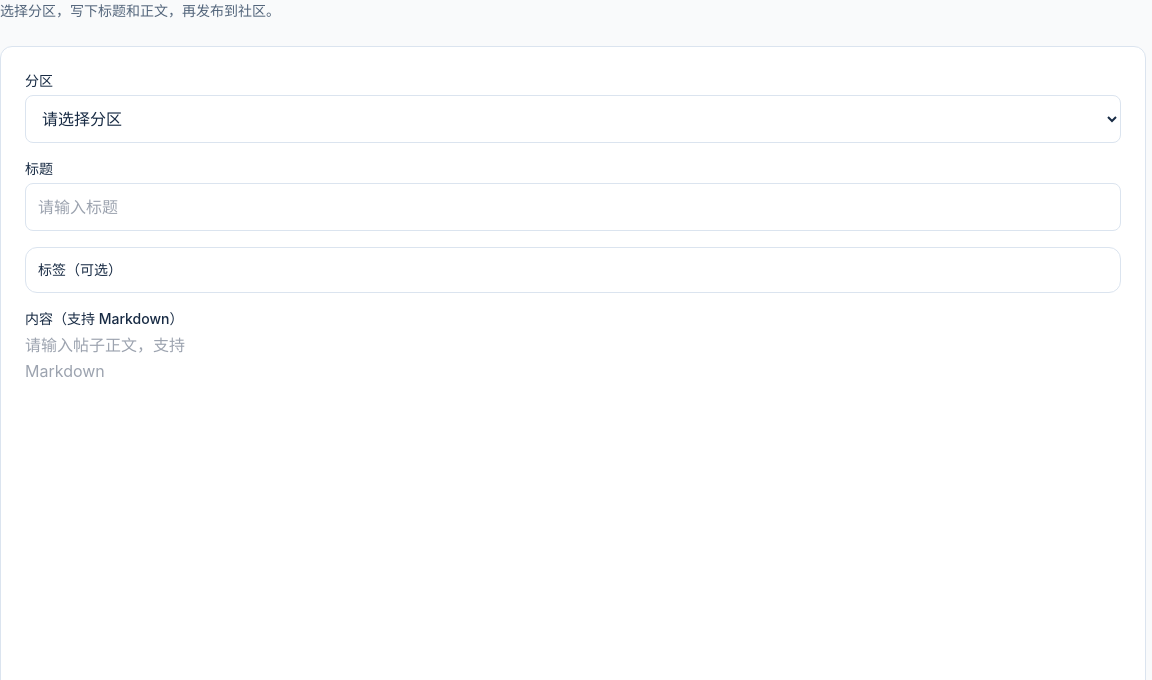
ThreadCreate › blocks image upload when persisted auth drifts and preserves the editor draft
In the field with id "thread-create-title": (573, 207) [25,183,1121,231], type "漂移前标题"
(page scrolled)
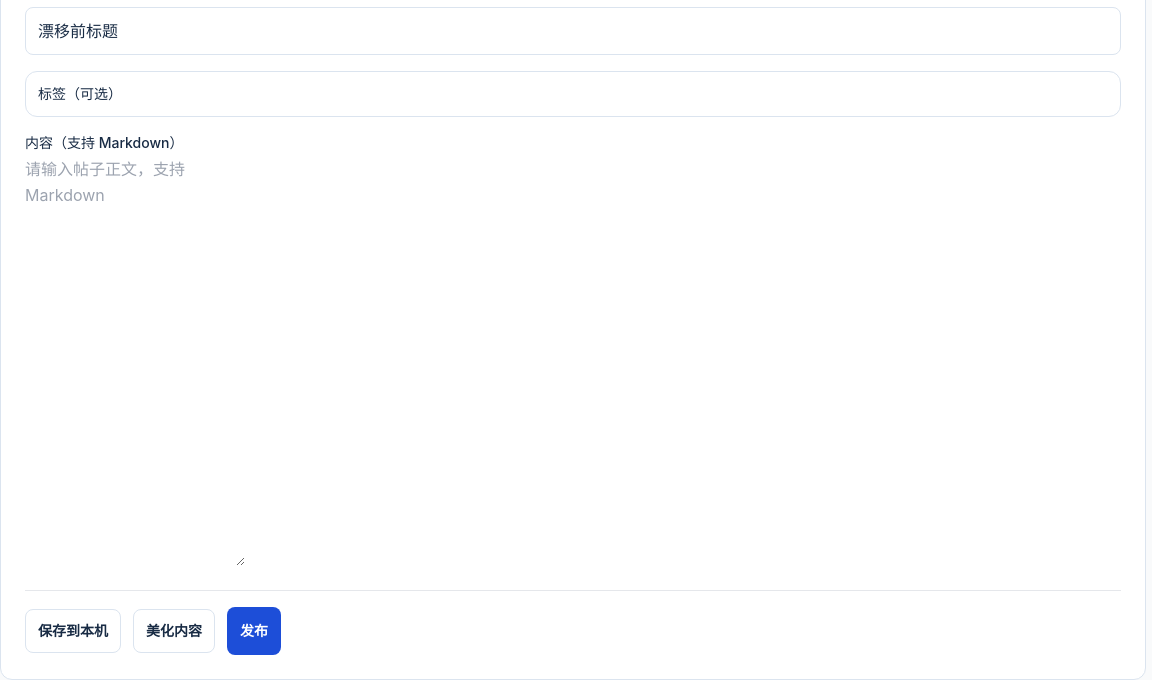
In the text box with placeholder "请输入帖子正文，支持 Markdown": (135, 362) [25,157,245,566], type "漂移前正文"
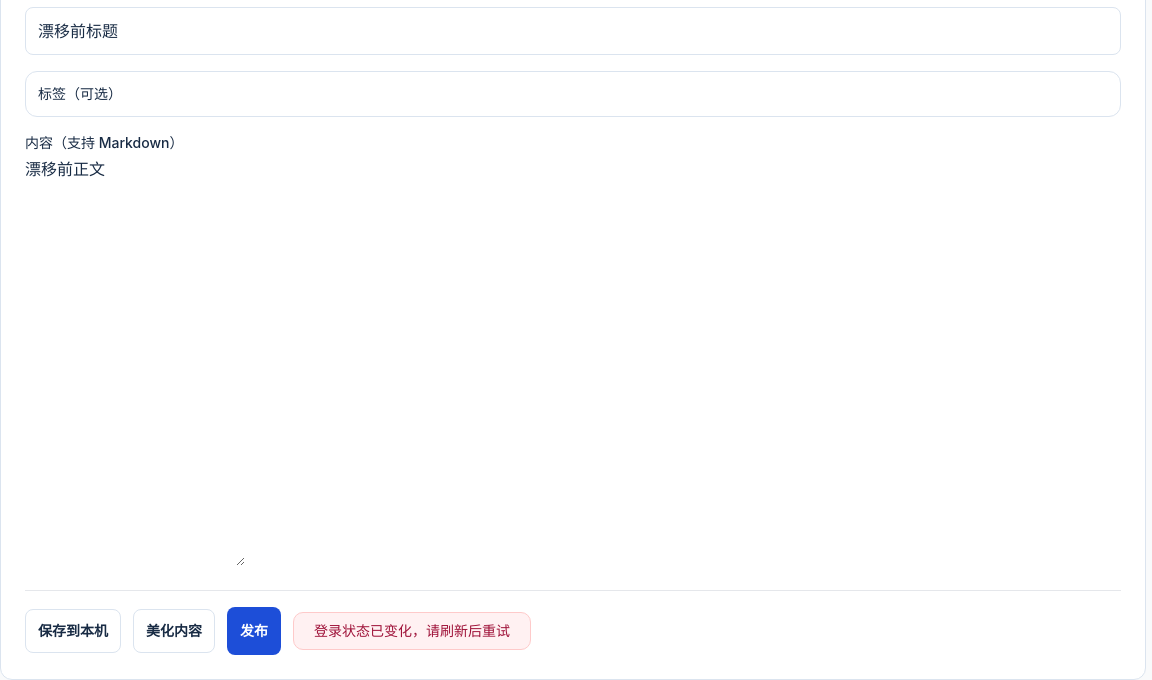
Expected: the text "登录状态已变化" is shown, [314,622,510,639]
